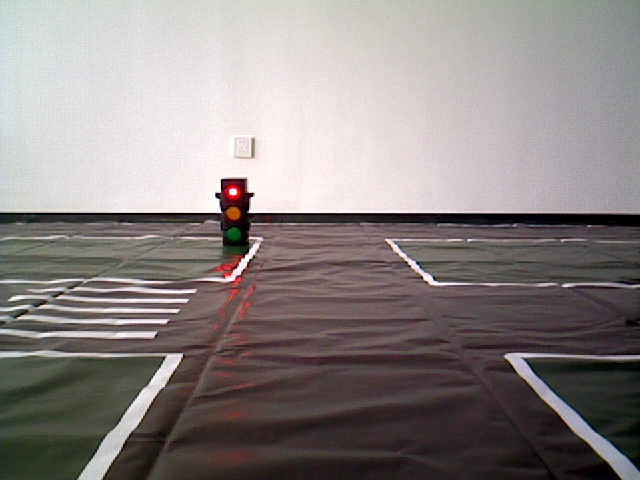red: (221, 180, 246, 250)
